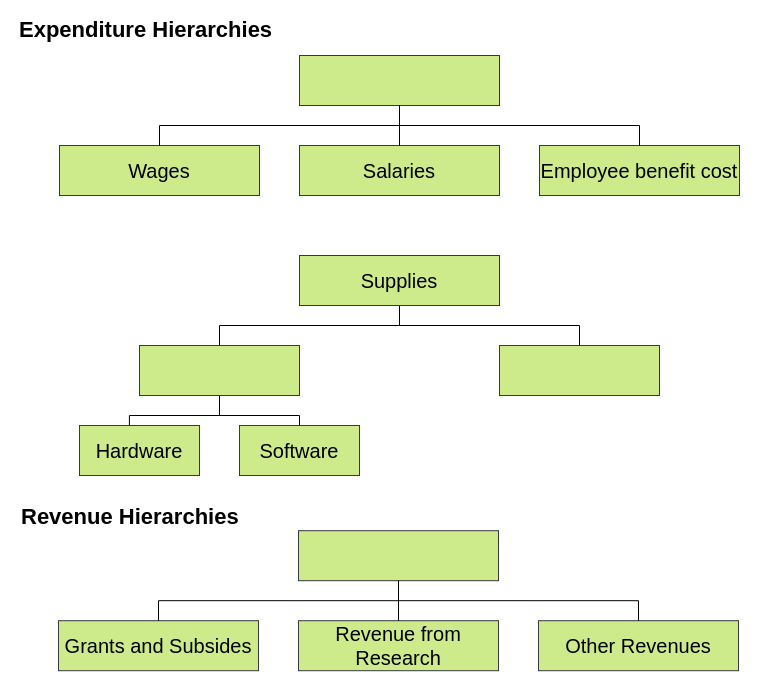
The diagram is 757 pixels wide and 688 high, and some of its shapes have lost their labels. Here are the shapes that lost their labels. From the top down, the centre of each, then its label:
At [399,80]: "HR".
At [219,370]: "IT".
At [579,370]: "Other Supplies".
At [398,555]: "Revennues".
